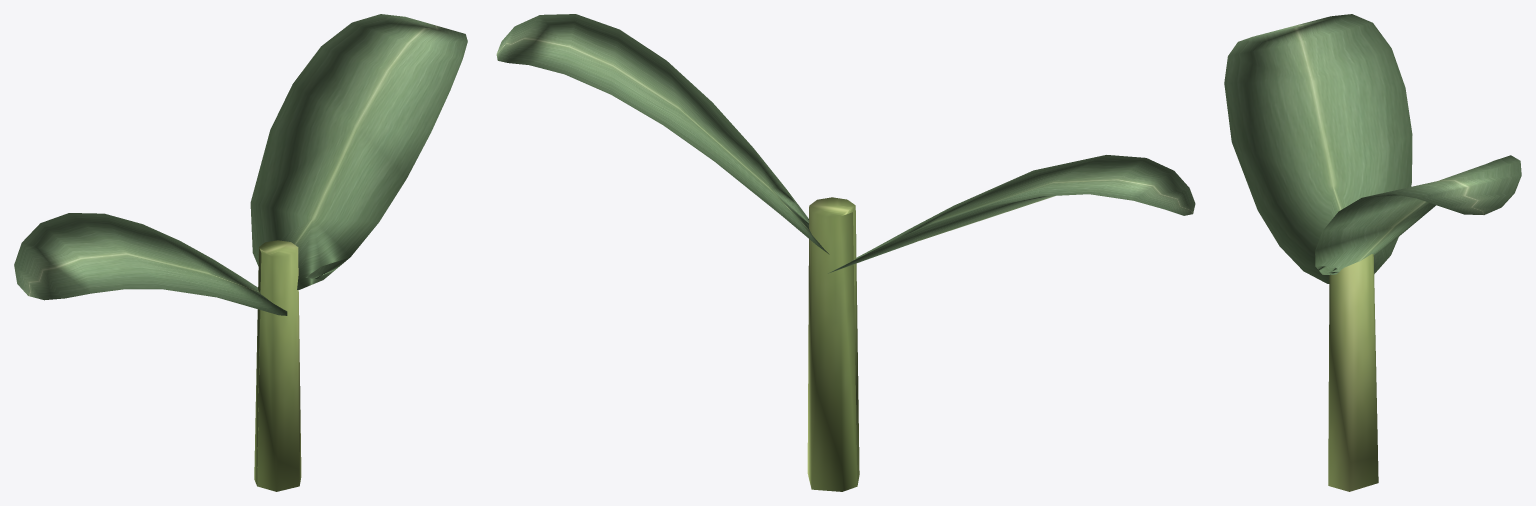
File: NP_Lavender_Sprout_LOD1.fbx
The picture shows the model from 3 angles, left to right: view 1: azimuth 30°, elevation 25°; view 2: azimuth 150°, elevation 25°; view 3: azimuth 270°, elevation 25°; orthographic projection. The views are drawn at different scales.
Visible parts, largest first — view 1: NP_Lavender_Sprout; view 2: NP_Lavender_Sprout; view 3: NP_Lavender_Sprout.
Boxes of the visible parts, box(x1,y1,x2,y2) form: NP_Lavender_Sprout: box(14, 14, 467, 491); NP_Lavender_Sprout: box(496, 14, 1195, 491); NP_Lavender_Sprout: box(1224, 14, 1521, 491).
Size of the model in its own units: 21.59 by 14.81 by 9.96.
Materials: 1 (1 with a texture image).
